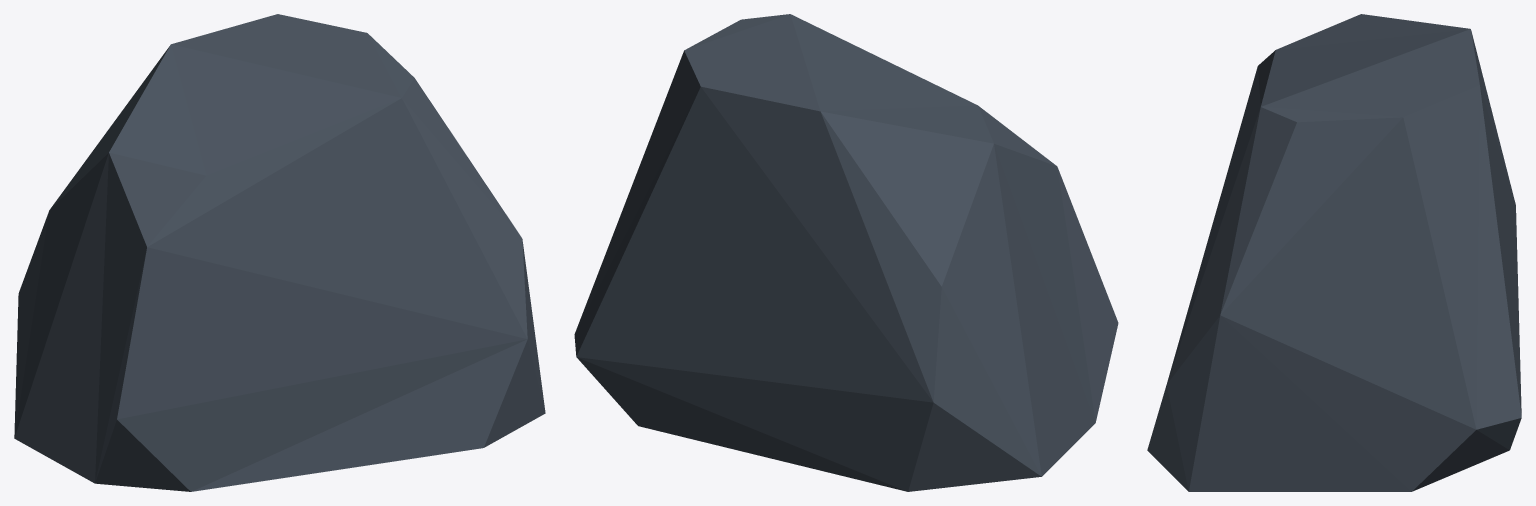
Rendered from TB_Env_Rock4_B.FBX.
3 renders of one model, left to right at view 1: azimuth 30°, elevation 25°; view 2: azimuth 150°, elevation 25°; view 3: azimuth 270°, elevation 25°, orthographic. The views are drawn at different scales.
Visible parts, largest first — view 1: TB_Env_Rock4_B; view 2: TB_Env_Rock4_B; view 3: TB_Env_Rock4_B.
Boxes of the visible parts, <box> form: TB_Env_Rock4_B: <box>14,14,545,491</box>; TB_Env_Rock4_B: <box>574,14,1118,491</box>; TB_Env_Rock4_B: <box>1147,14,1521,491</box>.
Size of the model in its own units: 1.52 by 1.13 by 1.12.
